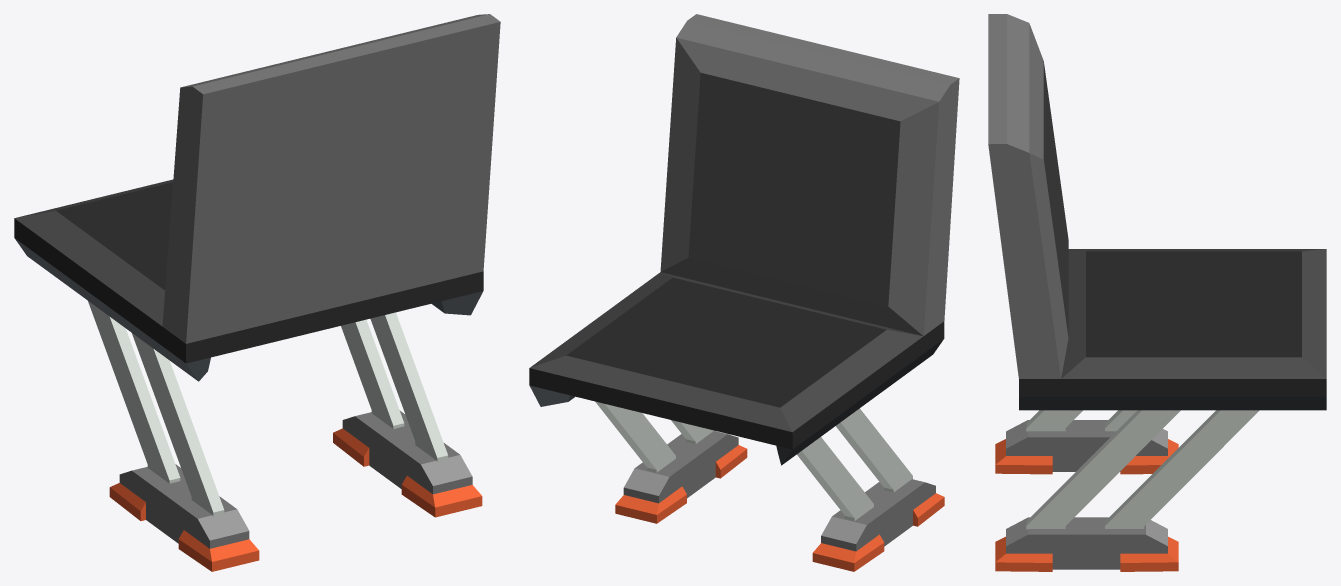
File: Chair_01.glb
3 renders of one model, left to right at view 1: azimuth 30°, elevation 25°; view 2: azimuth 150°, elevation 25°; view 3: azimuth 270°, elevation 25°, orthographic. The views are drawn at different scales.
Parts seen in each view (by area): view 1: Chair_01; view 2: Chair_01; view 3: Chair_01.
Boxes of the visible parts, x1=… form: Chair_01: x1=14, y1=14, x2=500, y2=571; Chair_01: x1=529, y1=14, x2=959, y2=571; Chair_01: x1=988, y1=14, x2=1326, y2=571.
Size of what is drawn, in the model's own units: 0.773 by 1.2 by 0.8499.
Materials: 1 (1 with a texture image).
